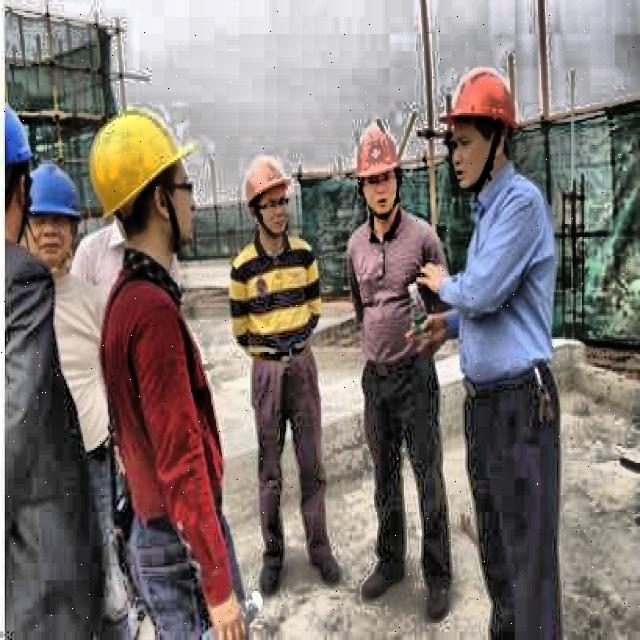helmet: (86, 103, 202, 264), (443, 68, 521, 186), (18, 166, 88, 288), (347, 117, 407, 226), (2, 100, 34, 256), (243, 151, 291, 239)
